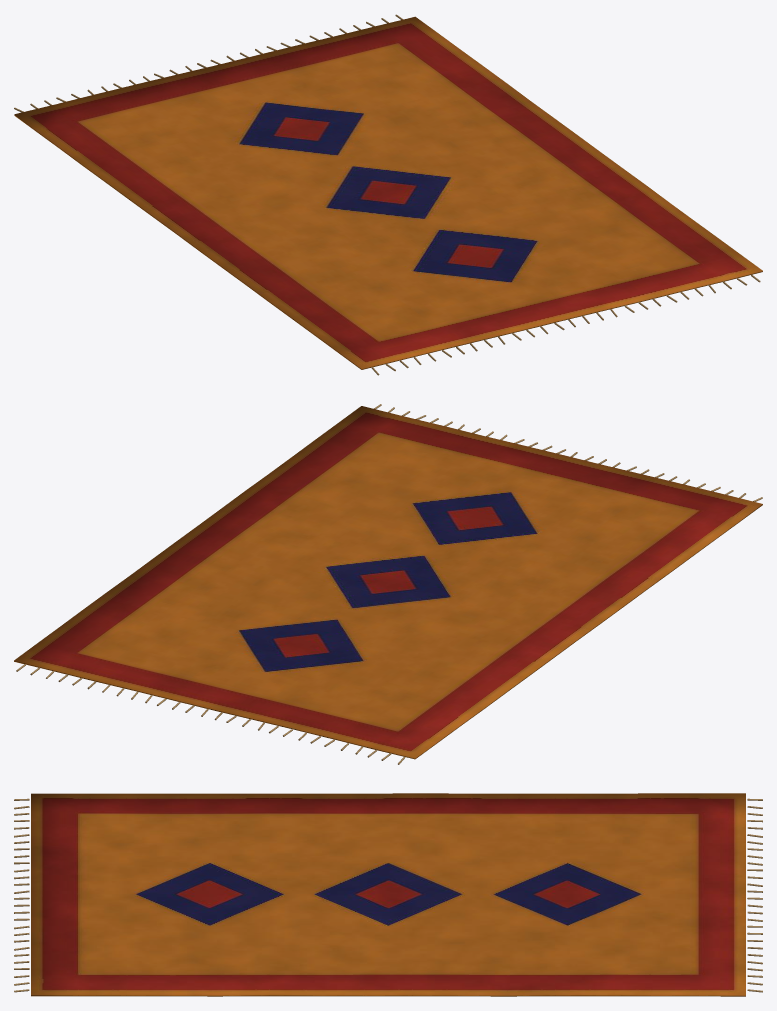
Rendered from rug.glb.
3 views of the same model, one above another, from view 1: azimuth 30°, elevation 25°; view 2: azimuth 150°, elevation 25°; view 3: azimuth 270°, elevation 25° (orthographic). The views are drawn at different scales.
Parts seen in each view (by area): view 1: rug; view 2: rug; view 3: rug.
Boxes of the visible parts, x1=… form: rug: x1=14, y1=14, x2=762, y2=375; rug: x1=14, y1=404, x2=762, y2=764; rug: x1=14, y1=793, x2=762, y2=996.
Bounding box in the file's own units: 2 × 0.0153 × 3.14.
1 material, 1 textured.
